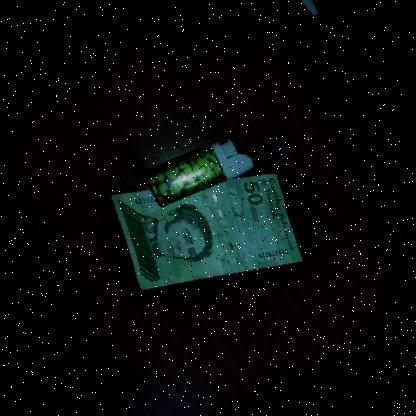fifty-front-vef: (105, 154, 303, 302)
